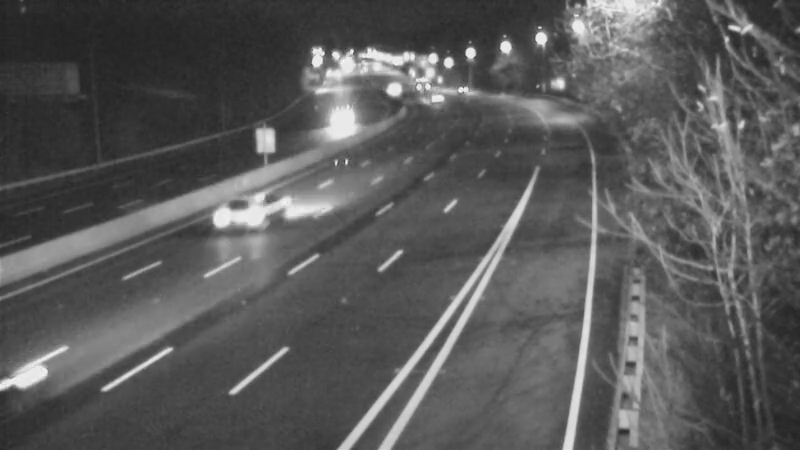vehicle: (201, 176, 281, 256), (442, 66, 492, 116), (401, 63, 451, 113), (368, 64, 418, 114), (410, 76, 460, 126), (323, 95, 373, 145)
